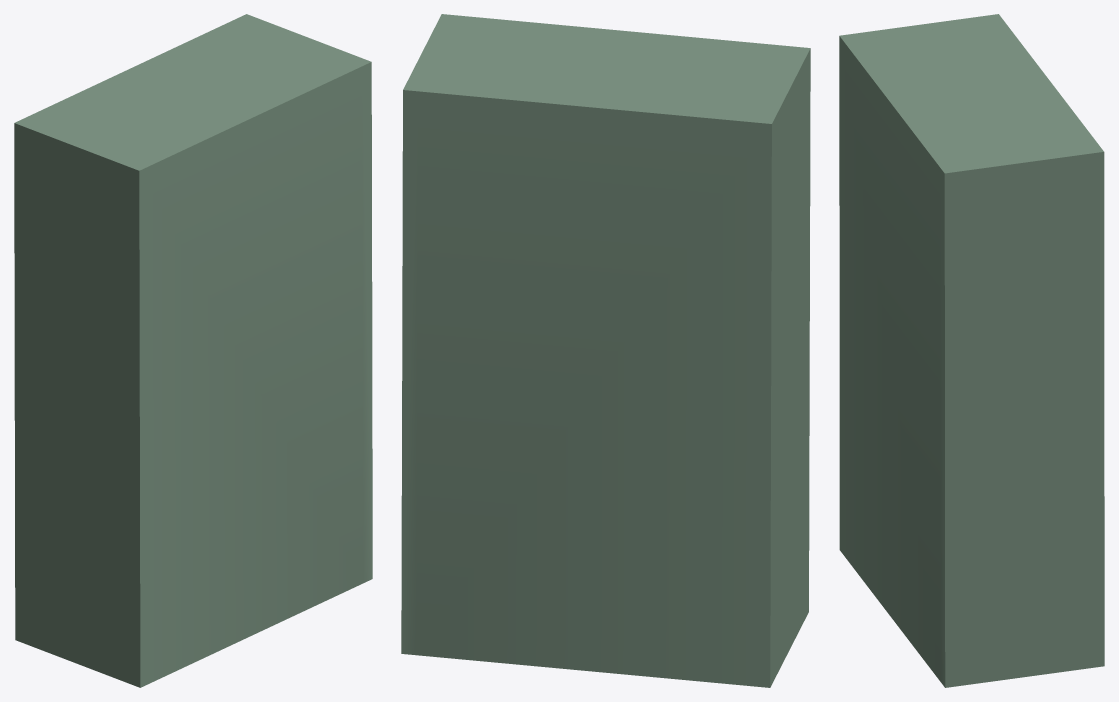
File: MSH_QuestObject_cabinet_09.fbx
The picture shows the model from 3 angles, left to right: view 1: azimuth 30°, elevation 25°; view 2: azimuth 150°, elevation 25°; view 3: azimuth 270°, elevation 25°; orthographic projection. The views are drawn at different scales.
Visible parts, largest first — view 1: MSH_QuestObject_cabinet_09; view 2: MSH_QuestObject_cabinet_09; view 3: MSH_QuestObject_cabinet_09.
Boxes of the visible parts, left/top/right/bottom form: MSH_QuestObject_cabinet_09: left=14, top=14, right=372, bottom=687; MSH_QuestObject_cabinet_09: left=401, top=14, right=810, bottom=687; MSH_QuestObject_cabinet_09: left=839, top=14, right=1104, bottom=687.
Bounding box in the file's own units: 1.83 × 2.74 × 1.28.
